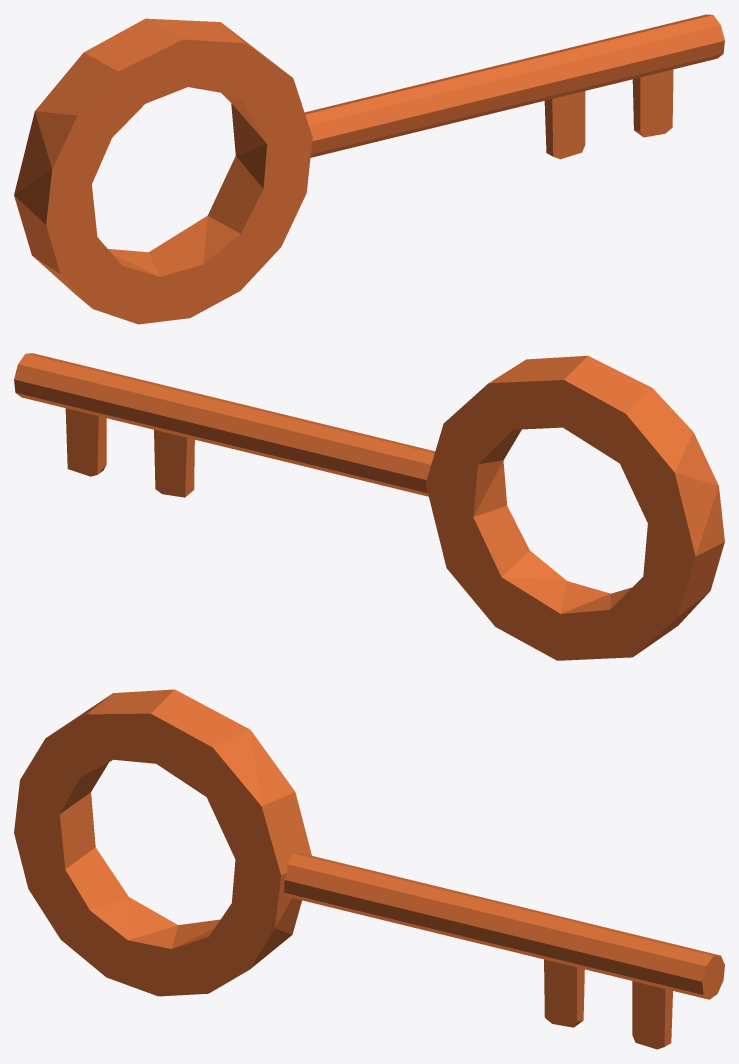
Rendered from key.fbx.
The picture shows the model from 3 angles, top to bottom: view 1: azimuth 30°, elevation 25°; view 2: azimuth 150°, elevation 25°; view 3: azimuth 330°, elevation 25°; orthographic projection.
Parts seen in each view (by area): view 1: Cylinder.001; view 2: Cylinder.001; view 3: Cylinder.001.
Boxes of the visible parts, x1,y1,x2,y2 form: Cylinder.001: (14,14,724,324); Cylinder.001: (14,353,724,660); Cylinder.001: (14,689,724,1049).
Size of the model in its own units: 514 by 40 by 202.
